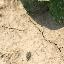Morning glory: (0, 0, 64, 16)
